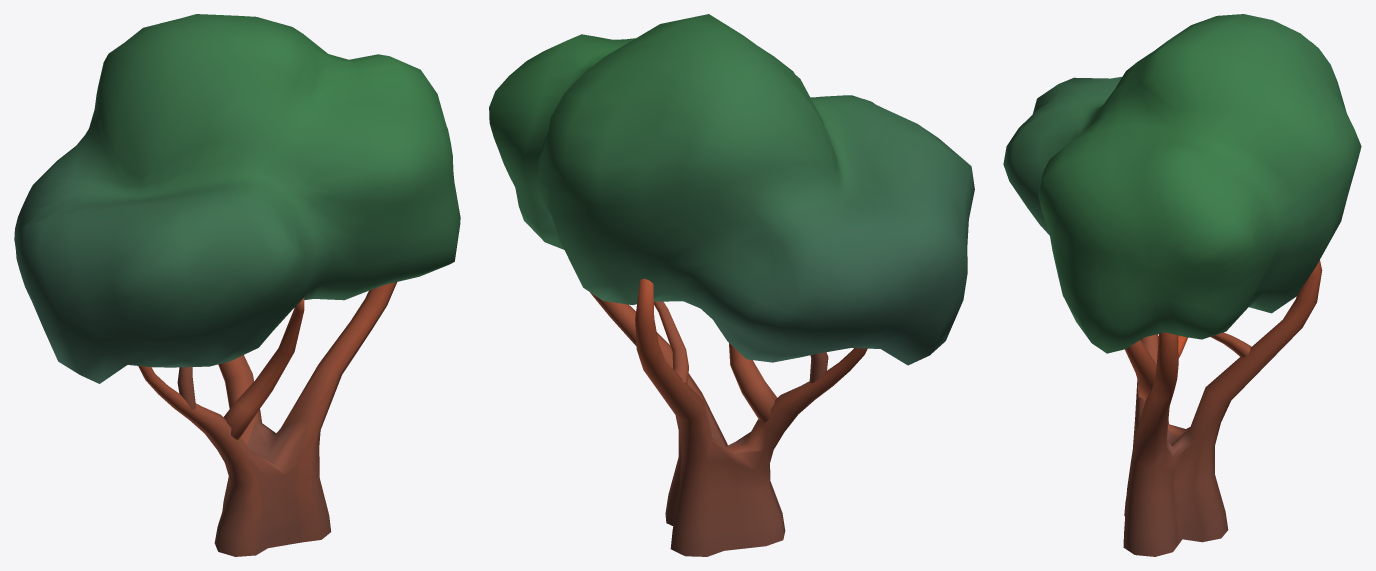
File: Big_Tree_01.fbx
3 renders of one model, left to right at view 1: azimuth 30°, elevation 25°; view 2: azimuth 150°, elevation 25°; view 3: azimuth 270°, elevation 25°, orthographic. The views are drawn at different scales.
Parts seen in each view (by area): view 1: Big_Tree_01; view 2: Big_Tree_01; view 3: Big_Tree_01.
Boxes of the visible parts, x1,y1,x2,y2 form: Big_Tree_01: (14,14,460,556); Big_Tree_01: (489,14,974,556); Big_Tree_01: (1003,14,1361,556).
Bounding box in the file's own units: 718 × 805 × 528.
